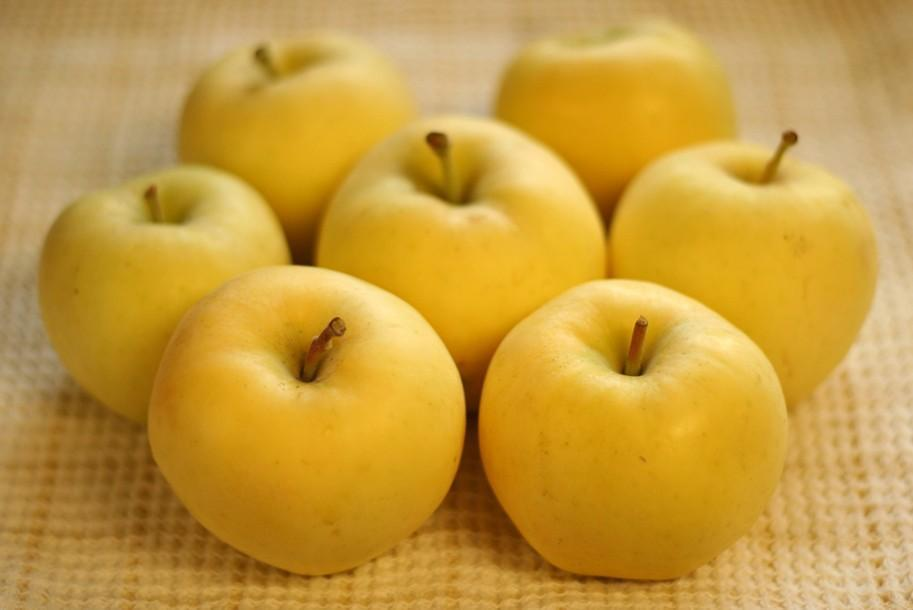apple: (143, 267, 467, 576), (475, 281, 784, 581), (317, 114, 608, 379), (609, 134, 876, 410), (35, 166, 284, 423)
